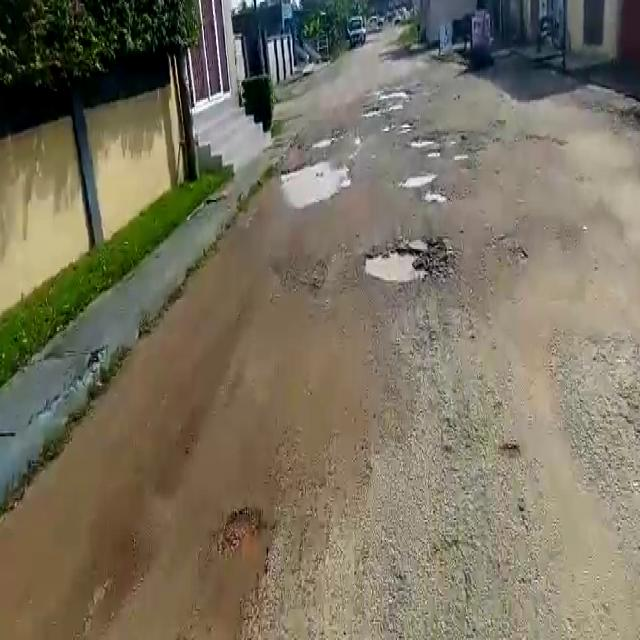Pothole: (361, 236, 447, 287), (281, 158, 350, 208), (220, 504, 270, 562), (492, 240, 530, 267), (398, 173, 438, 188), (410, 136, 447, 149), (422, 192, 447, 205)
